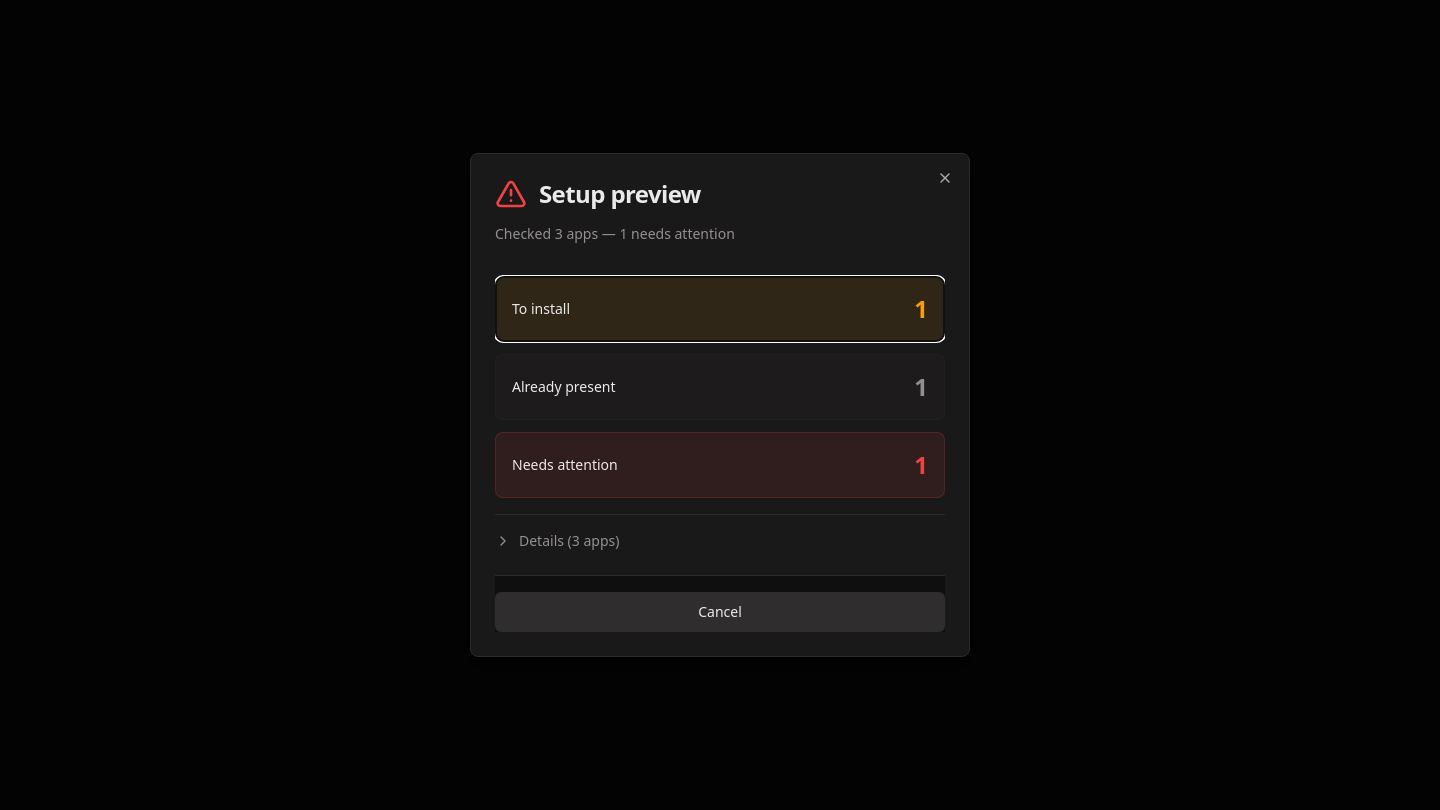
Test: ApplyResultModal › Details collapse behavior › collapses details when toggle button is clicked again
This screenshot has width=1440, height=810.
Click the button "Details (3 apps)": (569, 540) [495, 531, 945, 551]
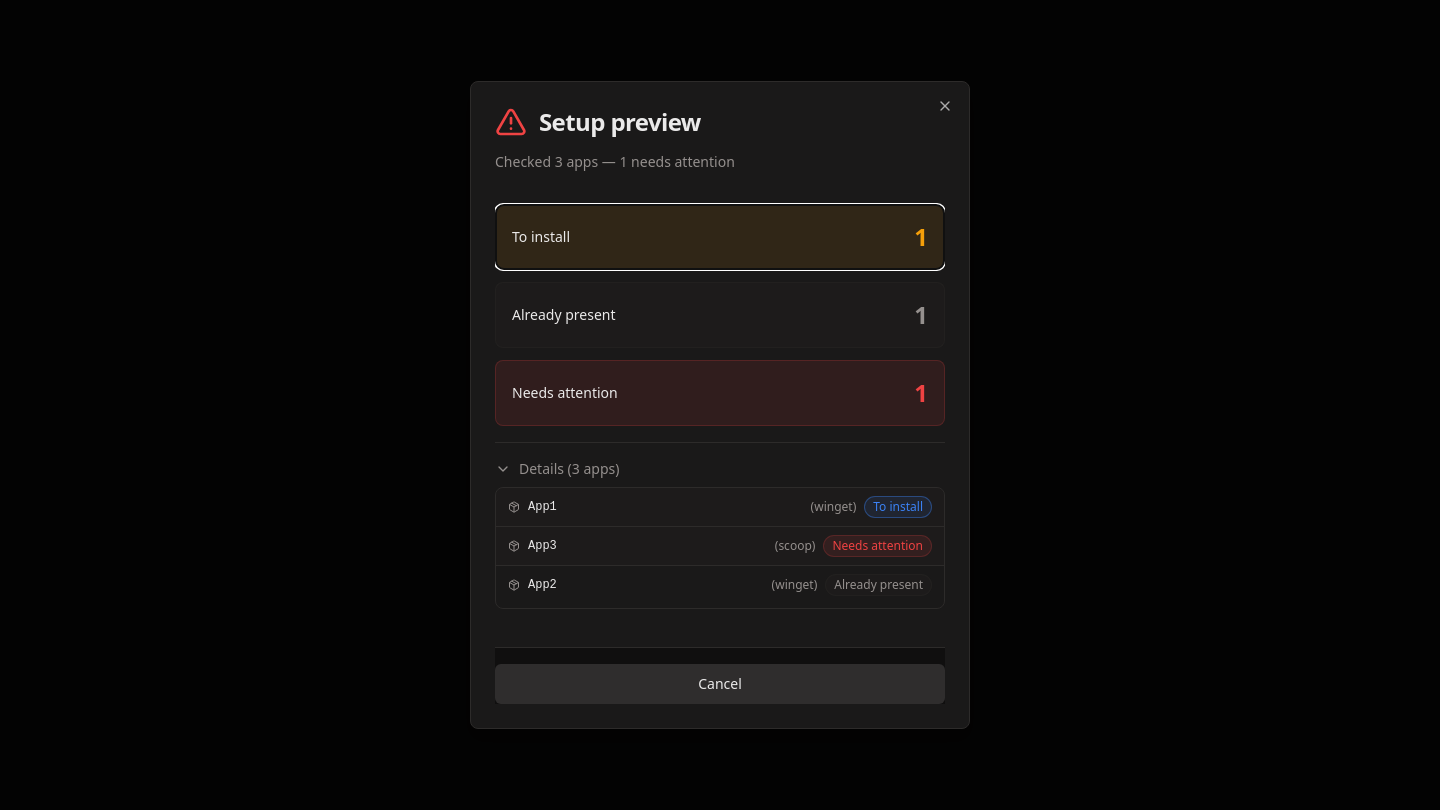
Check: the button "Details (3 apps)" is expanded
Click the button "Details (3 apps)": (569, 468) [495, 459, 945, 479]
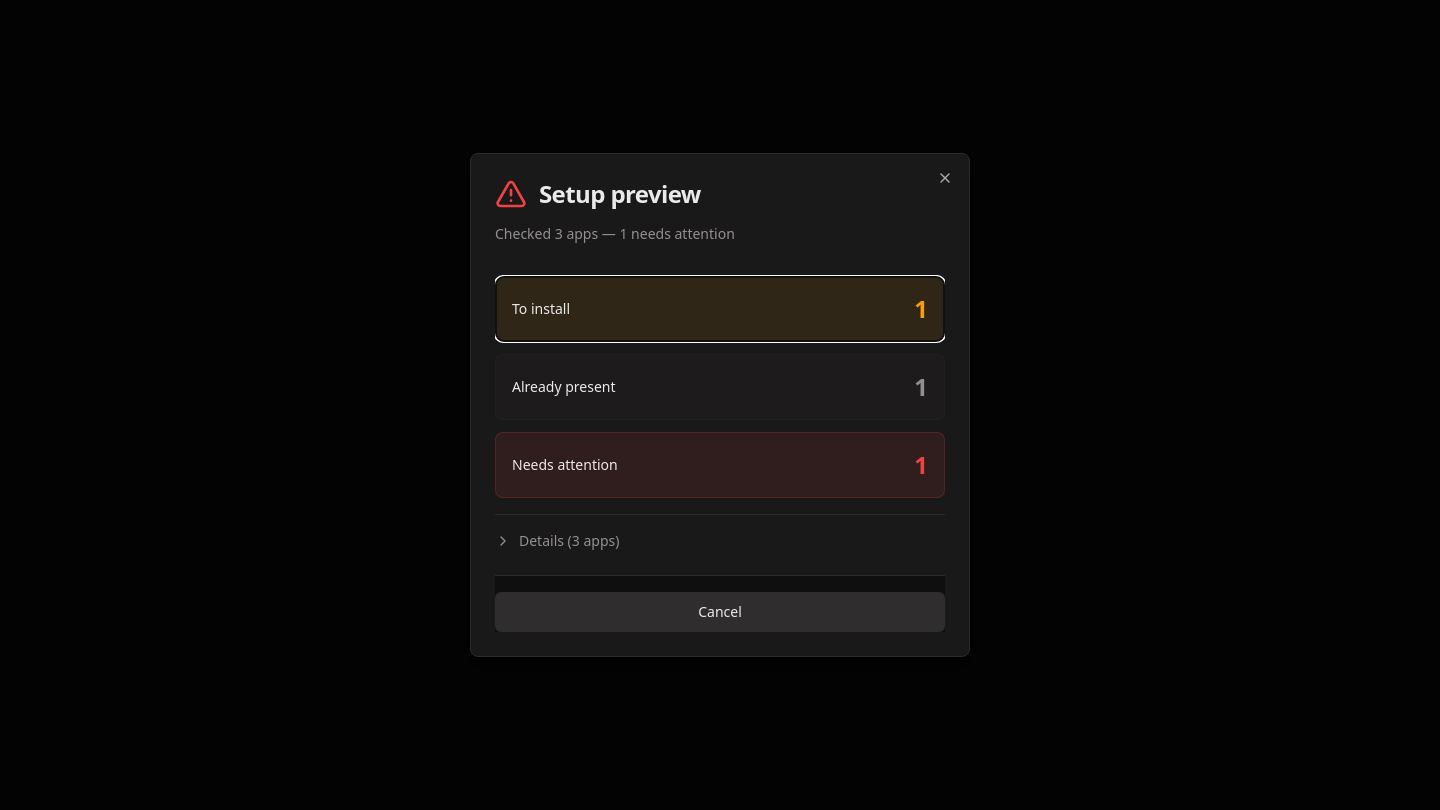
Check: the button "Details (3 apps)" is collapsed, box [495, 531, 945, 551]
